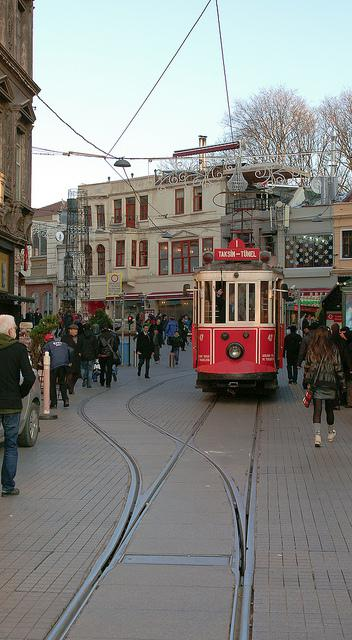Train: (183, 237, 288, 395)
